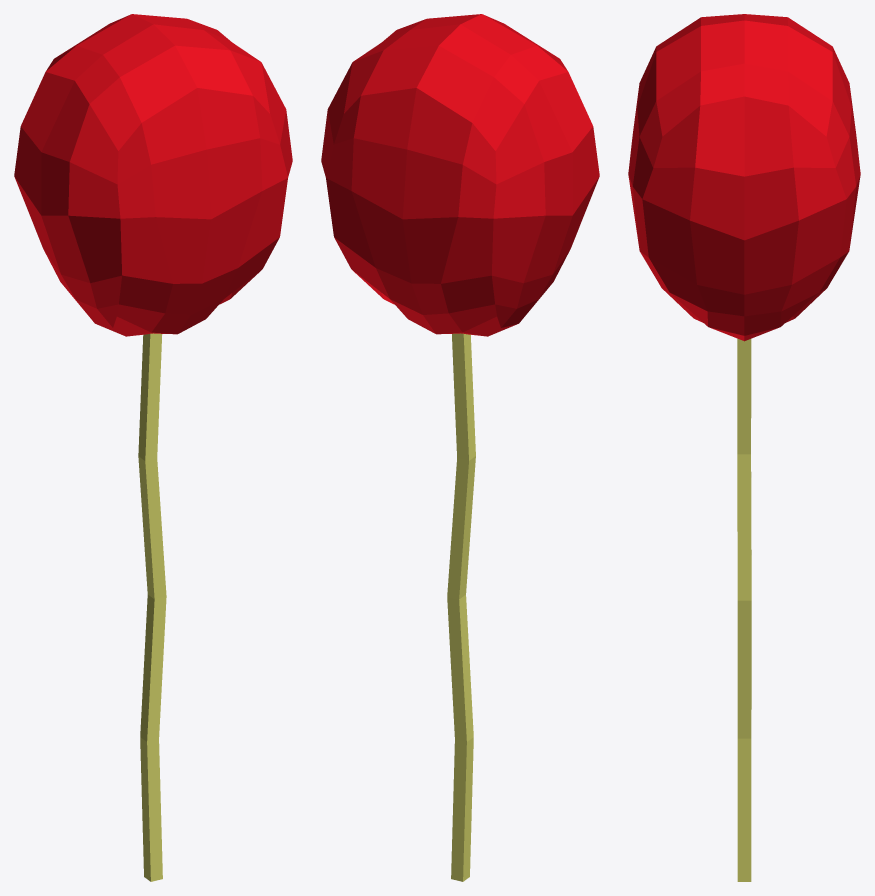
The model's file is Balon (1).fbx.
The picture shows the model from 3 angles, left to right: view 1: azimuth 30°, elevation 25°; view 2: azimuth 150°, elevation 25°; view 3: azimuth 270°, elevation 25°; orthographic projection.
Parts seen in each view (by area): view 1: rope; view 2: rope; view 3: rope.
Boxes of the visible parts, x1,y1,x2,y2 form: rope: [14, 14, 292, 881]; rope: [321, 14, 599, 881]; rope: [628, 14, 860, 881].
Bounding box in the file's own units: 63.6 × 231 × 56.7.
